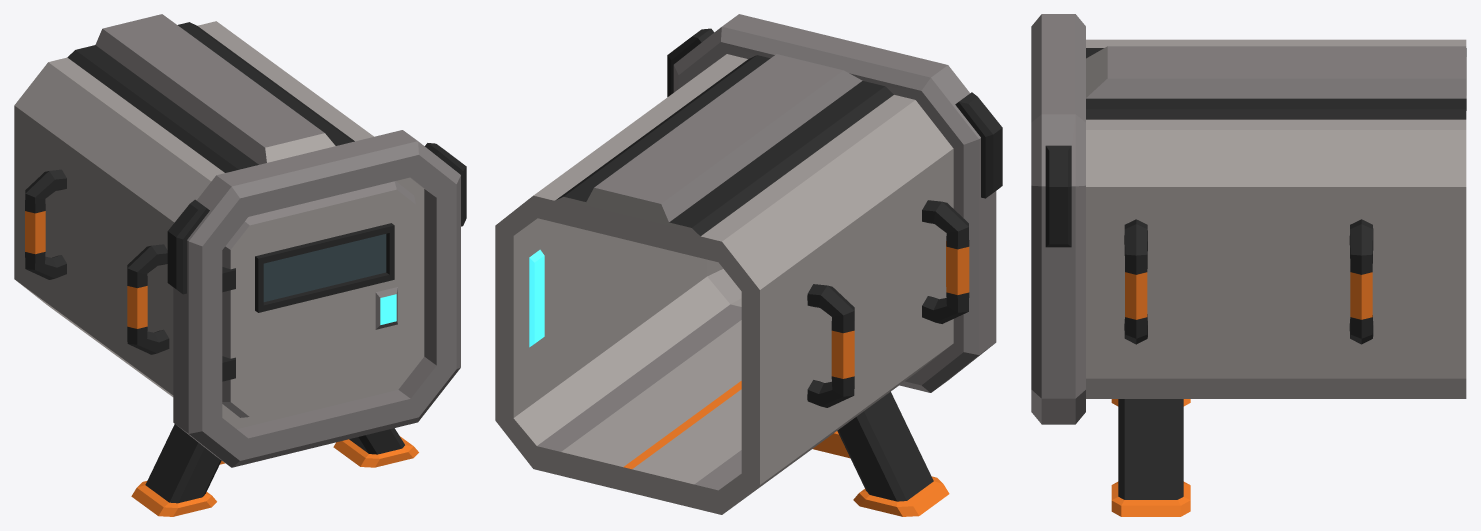
File: scifi_scifi-planet-base-hall-start.fbx
3 renders of one model, left to right at view 1: azimuth 30°, elevation 25°; view 2: azimuth 150°, elevation 25°; view 3: azimuth 270°, elevation 25°, orthographic. The views are drawn at different scales.
Parts seen in each view (by area): view 1: scifi_scifi_planet_base_hall_start; view 2: scifi_scifi_planet_base_hall_start; view 3: scifi_scifi_planet_base_hall_start.
Boxes of the visible parts, x1,y1,x2,y2 form: scifi_scifi_planet_base_hall_start: (14,14,466,516); scifi_scifi_planet_base_hall_start: (495,14,1002,516); scifi_scifi_planet_base_hall_start: (1031,14,1466,516).
Size of the model in its own units: 181 by 195 by 200.
